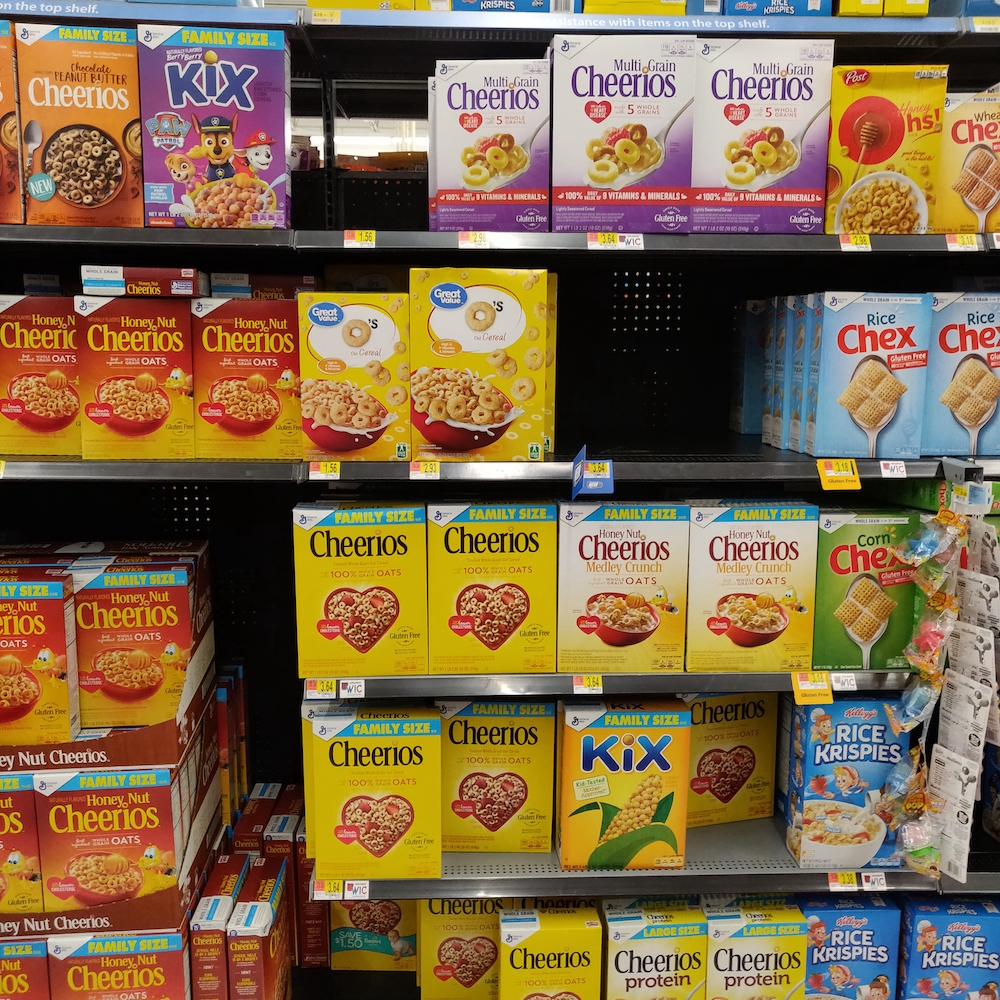Kix Berry -568919964: (134, 44, 288, 223)
Kix Crispy Corn-550051312: (563, 719, 689, 875)
